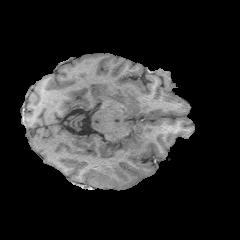glioma: (81, 162, 151, 189)
